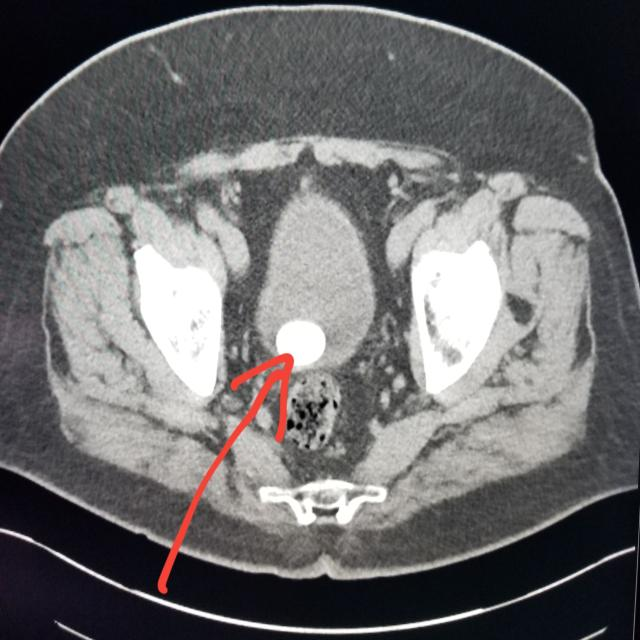Tumor: (272, 316, 326, 370)
